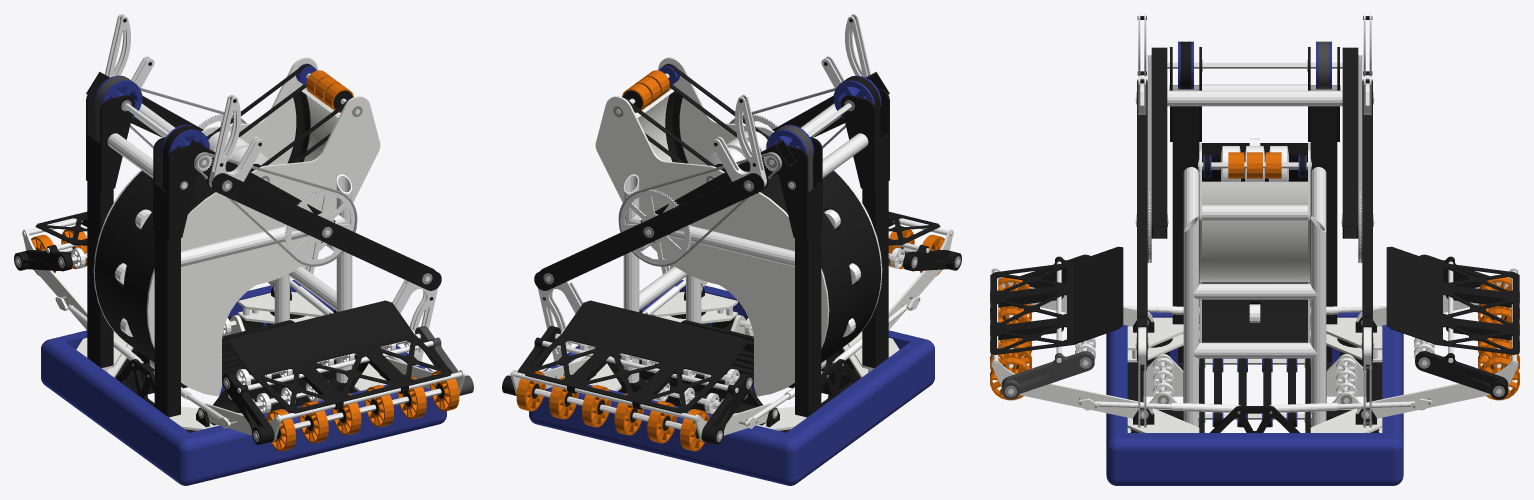
The model's file is FRC67_Assembly_FBX1.fbx.
The picture shows the model from 3 angles, left to right: view 1: azimuth 30°, elevation 25°; view 2: azimuth 150°, elevation 25°; view 3: azimuth 270°, elevation 25°; orthographic projection. The views are drawn at different scales.
Visible parts, largest first — view 1: Body2 (×21), Body1 (×18), Body3 (×4), Body4 (×3), Body7 (×2), Body12, Body6, Body8, Body11, Body13; view 2: Body1 (×26), Body2 (×15), Body4 (×4), Body5, Body10, Body6, Body12, Body8, Body11, Body13, Body3; view 3: Body1 (×24), Body2 (×15), Body3 (×3), Body4 (×4), Body5, Body7.
Boxes of the visible parts, left/top/right/bottom form: Body2 (×21): left=14, top=75, right=465, bottom=421; Body1 (×18): left=35, top=14, right=446, bottom=485; Body3 (×4): left=167, top=145, right=473, bottom=411; Body4 (×3): left=153, top=137, right=281, bottom=444; Body7 (×2): left=169, top=377, right=426, bottom=430; Body12: left=299, top=401, right=328, bottom=443; Body6: left=364, top=385, right=393, bottom=427; Body8: left=267, top=409, right=295, bottom=451; Body11: left=332, top=393, right=361, bottom=435; Body13: left=254, top=388, right=441, bottom=439; Body1 (×26): left=502, top=14, right=934, bottom=485; Body2 (×15): left=639, top=57, right=940, bottom=444; Body4 (×4): left=733, top=95, right=961, bottom=430; Body5: left=651, top=291, right=737, bottom=316; Body10: left=647, top=401, right=676, bottom=443; Body6: left=582, top=385, right=611, bottom=427; Body12: left=680, top=409, right=708, bottom=451; Body8: left=549, top=377, right=578, bottom=419; Body11: left=614, top=393, right=643, bottom=435; Body13: left=534, top=388, right=721, bottom=439; Body3: left=877, top=88, right=889, bottom=180; Body1 (×24): left=1106, top=14, right=1519, bottom=485; Body2 (×15): left=990, top=41, right=1518, bottom=432; Body3 (×3): left=990, top=351, right=1152, bottom=418; Body4 (×4): left=991, top=254, right=1382, bottom=396; Body5: left=1127, top=408, right=1199, bottom=432; Body7: left=1127, top=317, right=1199, bottom=350.
Size of the model in its own units: 30.65 by 39.71 by 49.95.
